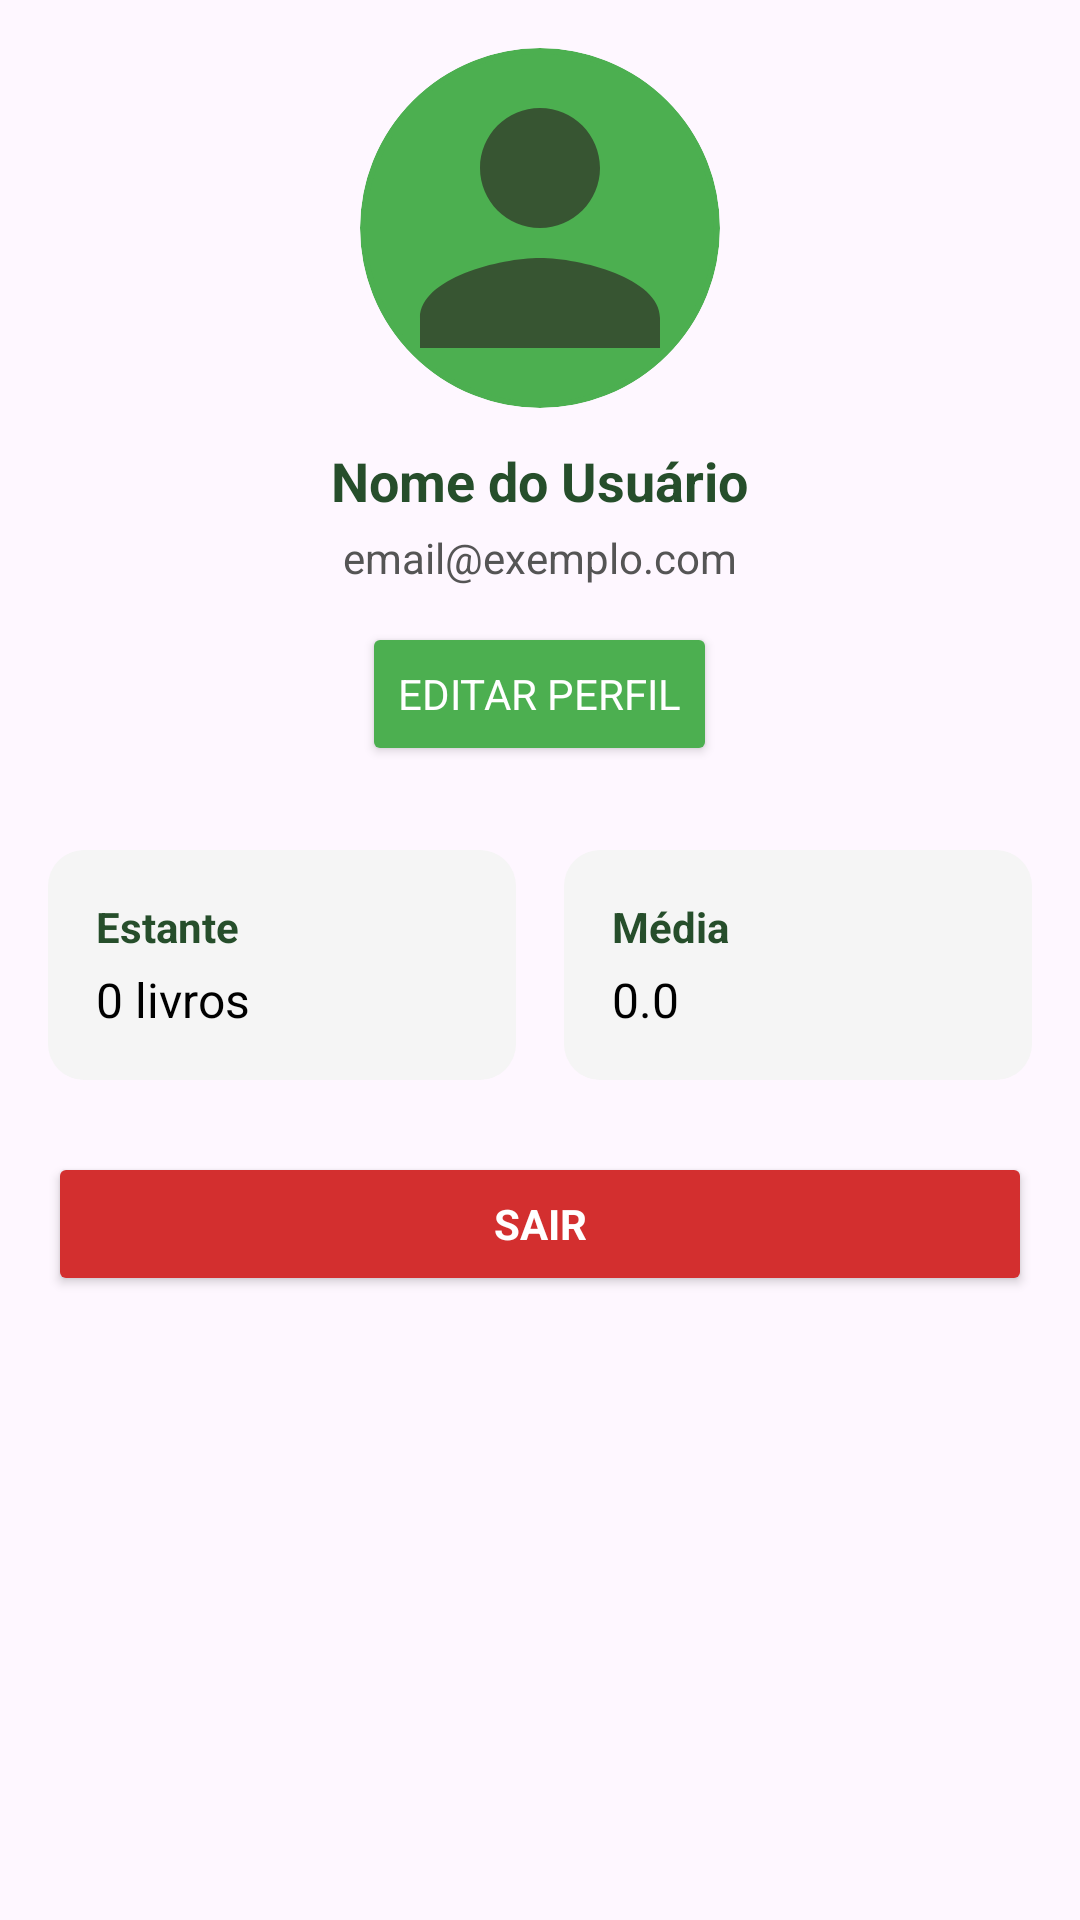

Where to tap for icons on this 1080×1920 app screen, as (x=x, y=y):
Foto de perfil: (x=540, y=228)
